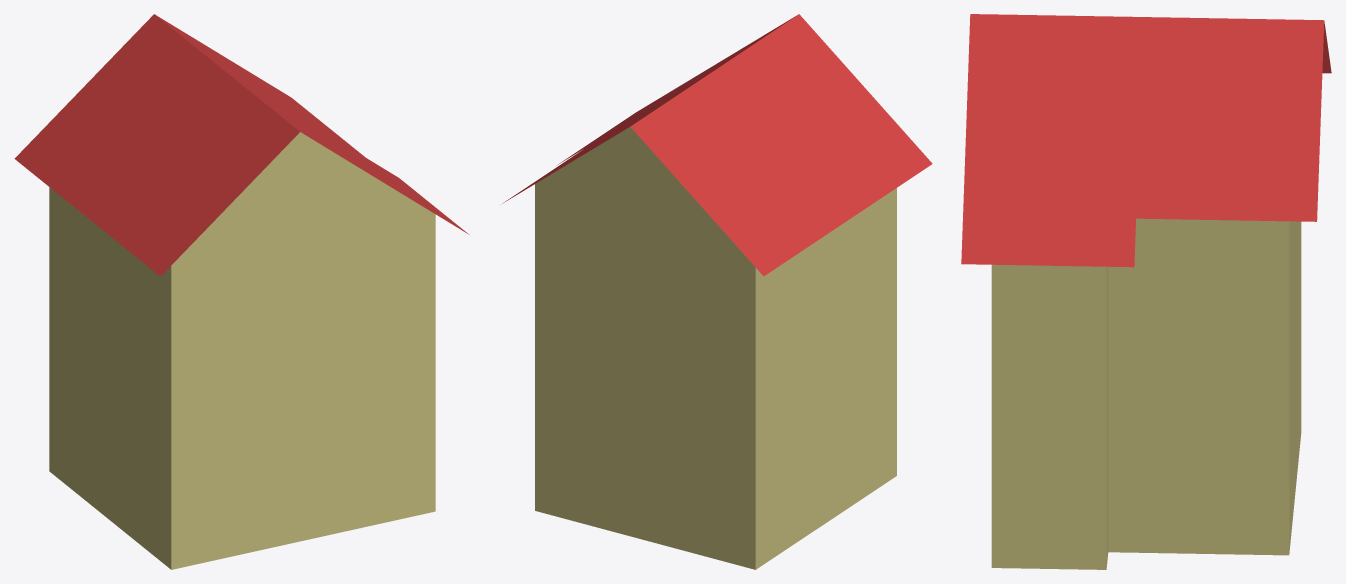
3 renders of one model, left to right at view 1: azimuth 30°, elevation 25°; view 2: azimuth 150°, elevation 25°; view 3: azimuth 270°, elevation 25°, orthographic. The views are drawn at different scales.
Bounding box in the file's own units: 10.34 × 9.56 × 13.52.
